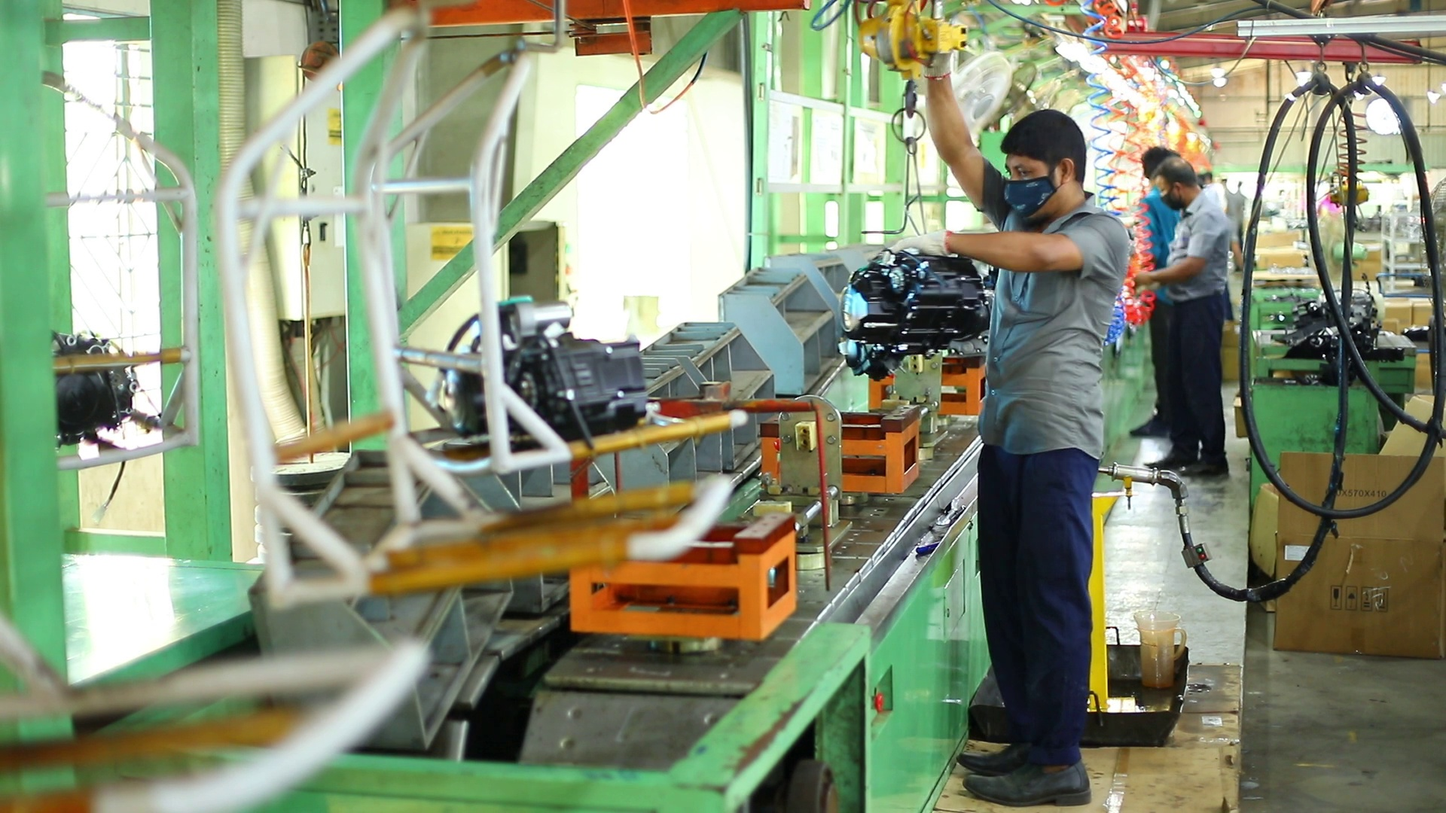mask: (1002, 175, 1061, 219)
person: (877, 51, 1133, 806), (1126, 154, 1234, 481), (1127, 144, 1191, 442), (1194, 171, 1244, 272)
